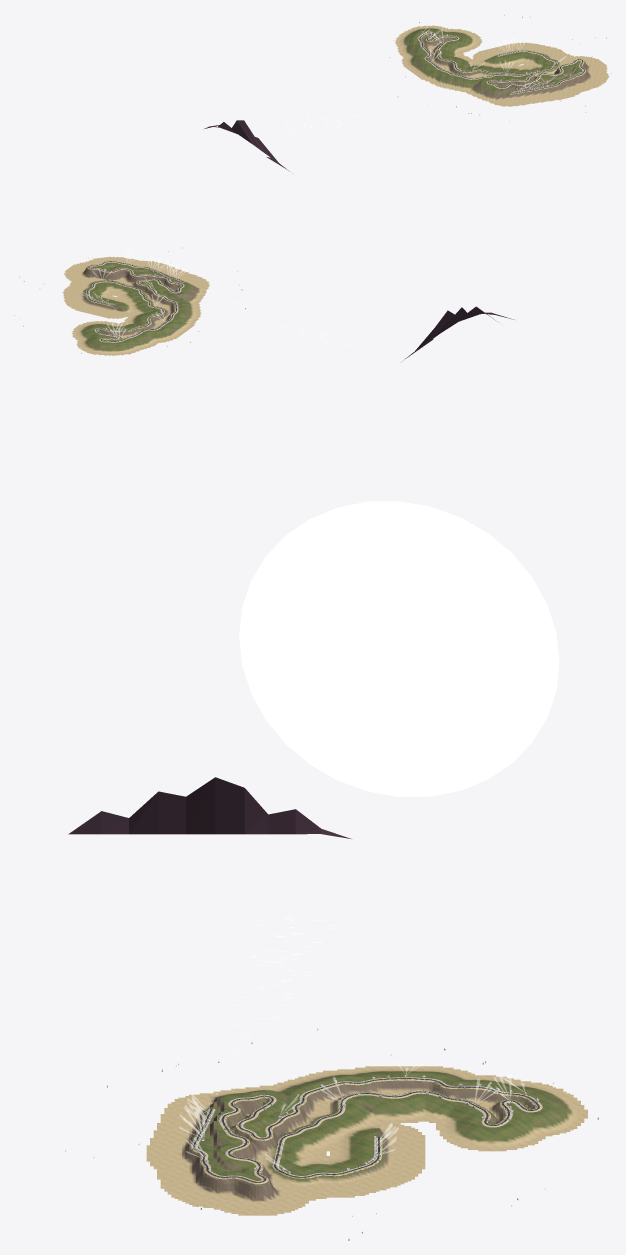
File: ibiza.glb
3 renders of one model, top to bottom at view 1: azimuth 30°, elevation 25°; view 2: azimuth 150°, elevation 25°; view 3: azimuth 270°, elevation 25°, orthographic. The views are drawn at different scales.
Visible parts, largest first — view 1: Land_000, Land_008, Land_004, Land_003, Land_002, Land_001, Land_006, Land_007, Conillera, Land_005, Land_009; view 2: Land_000, Land_003, Land_004, Land_007, Land_002, Land_008, Land_001, Conillera, Land_006, Land_005; view 3: Sun, Conillera, Land_000, Land_008, Land_003, Land_004, Land_002, Land_007, Land_001, Land_005, Land_006, Land_009.
Boxes of the visible parts, bbox=[...] form: Land_000: bbox=[472, 42, 573, 74]; Land_008: bbox=[515, 67, 609, 104]; Land_004: bbox=[398, 46, 470, 89]; Land_003: bbox=[395, 25, 481, 50]; Land_002: bbox=[430, 37, 482, 74]; Land_001: bbox=[457, 62, 550, 78]; Land_006: bbox=[466, 77, 539, 101]; Land_007: bbox=[534, 56, 607, 85]; Conillera: bbox=[203, 120, 289, 171]; Land_005: bbox=[455, 74, 535, 92]; Land_009: bbox=[489, 87, 525, 106]; Land_000: bbox=[62, 279, 133, 318]; Land_003: bbox=[72, 323, 147, 355]; Land_004: bbox=[135, 304, 201, 347]; Land_007: bbox=[64, 262, 152, 284]; Land_002: bbox=[85, 311, 169, 337]; Land_008: bbox=[85, 256, 193, 280]; Land_001: bbox=[108, 280, 170, 314]; Conillera: bbox=[402, 306, 514, 361]; Land_006: bbox=[150, 273, 206, 302]; Land_005: bbox=[131, 278, 200, 308]; Sun: bbox=[239, 501, 559, 796]; Conillera: bbox=[68, 777, 350, 838]; Land_000: bbox=[264, 1123, 425, 1200]; Land_008: bbox=[146, 1113, 241, 1209]; Land_003: bbox=[468, 1078, 587, 1151]; Land_004: bbox=[291, 1066, 506, 1103]; Land_002: bbox=[356, 1091, 499, 1148]; Land_007: bbox=[213, 1131, 308, 1215]; Land_001: bbox=[259, 1094, 382, 1165]; Land_005: bbox=[231, 1079, 322, 1152]; Land_006: bbox=[210, 1085, 287, 1137]; Land_009: bbox=[160, 1093, 224, 1118].
Size of what is drawn, in the model's own units: 6650 by 1664 by 2916.
